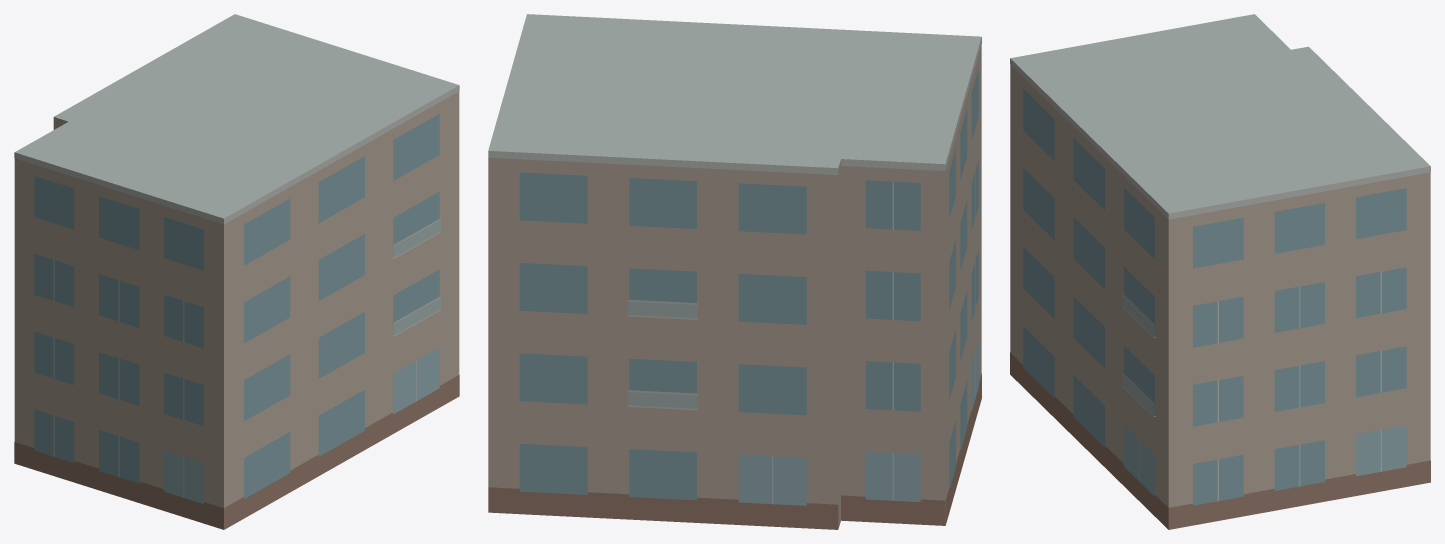
File: survey-upis-32851185.glb
3 views of the same model, side by side, from view 1: azimuth 30°, elevation 25°; view 2: azimuth 150°, elevation 25°; view 3: azimuth 270°, elevation 25° (orthographic). The views are drawn at different scales.
Parts seen in each view (by area): view 1: survey-upis-32851185.tmp; view 2: survey-upis-32851185.tmp; view 3: survey-upis-32851185.tmp.
Part boxes in pixels (<box>): survey-upis-32851185.tmp: <box>14,14,459,529</box>; survey-upis-32851185.tmp: <box>488,14,981,529</box>; survey-upis-32851185.tmp: <box>1010,14,1430,529</box>.
Bounding box in the file's own units: 17.34 × 12.8 × 15.44.
